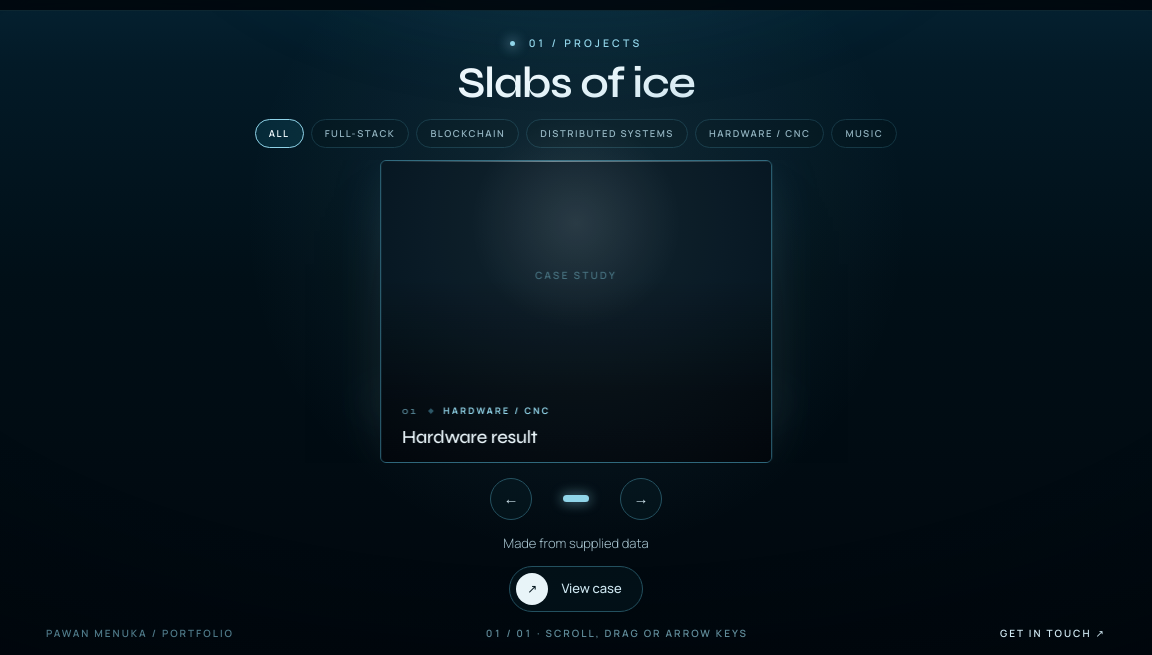
it: Projects › keeps Music visible and gives an empty Music layer a useful state
Click the button "Music" at (864, 134), box left=831, top=119, right=897, bottom=148
(page scrolled)
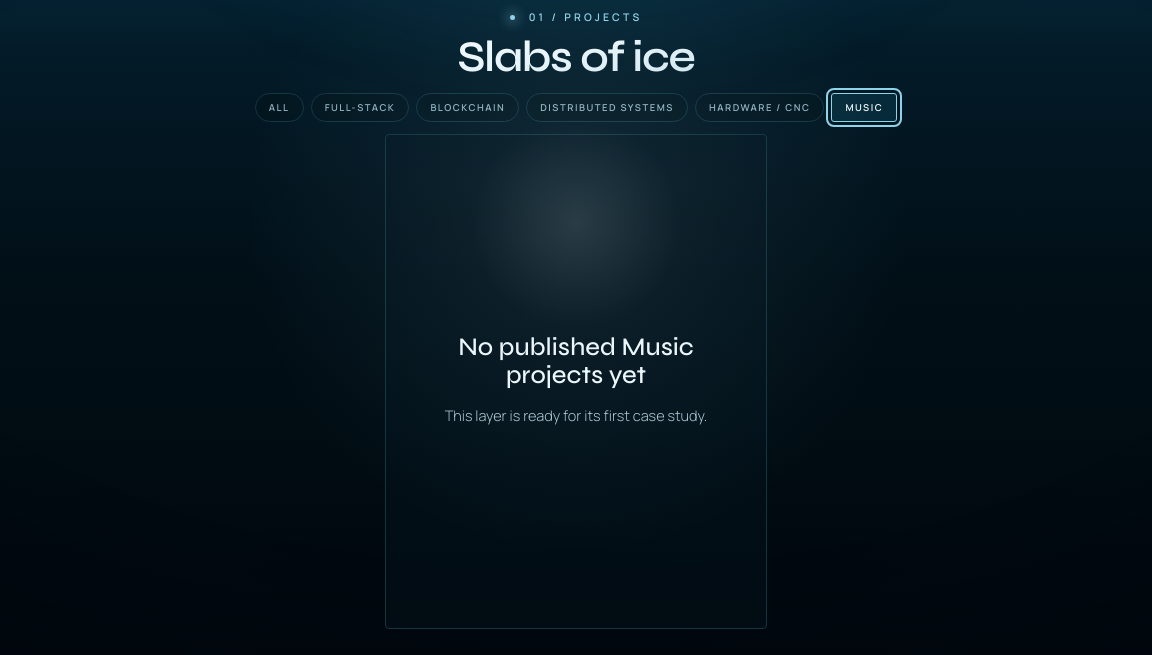
Check: the heading "No published Music projects yet" is shown, box left=458, top=332, right=694, bottom=390
